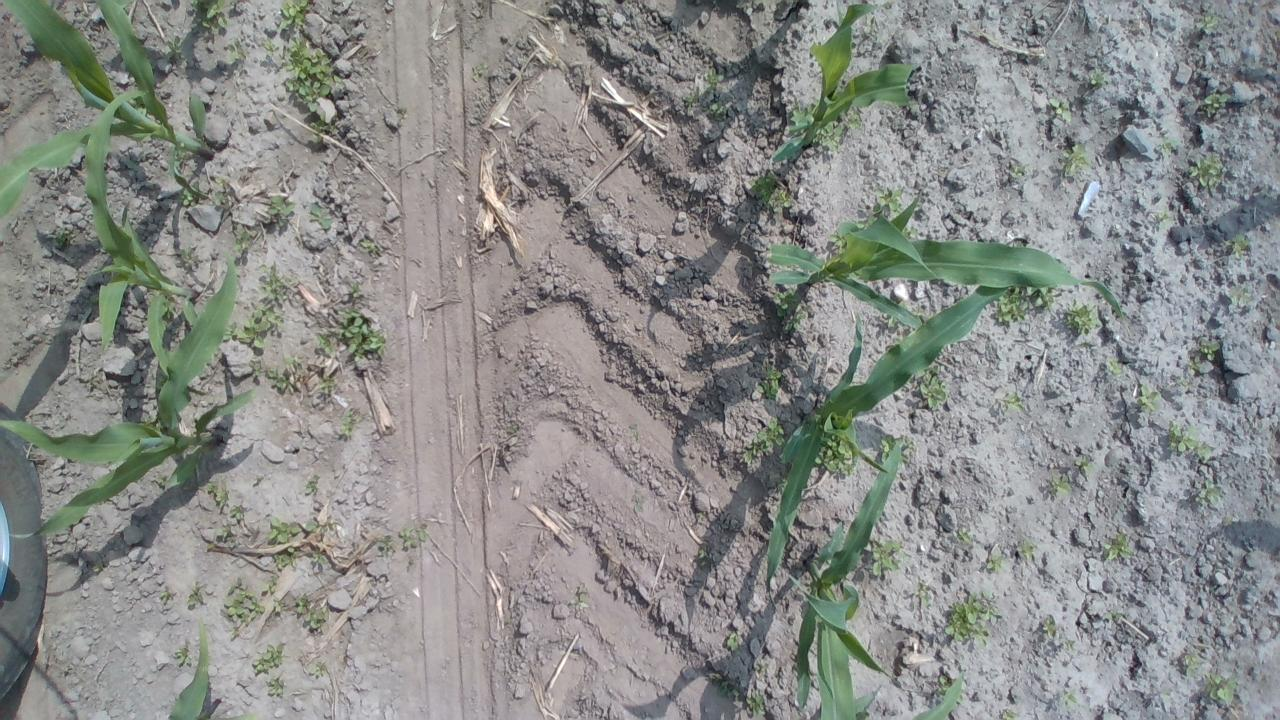Maize: (765, 286, 1006, 602), (0, 252, 256, 539), (764, 190, 1128, 333), (0, 0, 218, 215), (782, 438, 902, 720), (85, 88, 199, 382), (770, 3, 916, 162), (168, 622, 256, 720), (810, 670, 966, 720)
Weeds: (281, 36, 346, 111), (316, 306, 386, 363), (944, 591, 1004, 647), (222, 303, 288, 350), (222, 582, 264, 636), (741, 416, 784, 464), (996, 286, 1053, 322), (1168, 420, 1212, 461), (865, 533, 904, 576), (814, 434, 854, 475), (190, 0, 236, 34), (916, 363, 948, 411), (772, 288, 806, 333), (751, 170, 791, 208), (256, 264, 298, 300), (267, 355, 305, 394), (1065, 301, 1103, 334), (1190, 154, 1224, 190), (1203, 670, 1238, 704), (295, 596, 329, 629), (275, 0, 308, 34), (880, 432, 915, 464), (812, 121, 844, 154), (1062, 142, 1091, 176), (1190, 478, 1224, 506), (253, 642, 284, 672), (872, 185, 903, 214), (268, 516, 300, 544), (270, 195, 297, 228), (756, 368, 782, 402), (1102, 533, 1132, 562), (310, 112, 337, 144), (790, 103, 816, 136), (224, 34, 250, 66), (1136, 384, 1162, 413), (1204, 92, 1231, 118), (712, 674, 740, 699), (208, 478, 230, 507), (308, 205, 333, 230), (399, 526, 428, 546), (702, 68, 724, 94), (1050, 97, 1072, 122), (768, 470, 789, 496), (274, 546, 298, 568), (164, 34, 184, 60), (230, 226, 250, 252), (911, 580, 930, 606), (1226, 234, 1248, 256), (54, 228, 78, 248), (339, 408, 354, 439), (1086, 67, 1108, 88), (1004, 391, 1026, 412), (212, 177, 228, 205), (376, 534, 393, 560), (746, 694, 766, 716), (303, 472, 321, 496), (1050, 477, 1072, 496), (1017, 538, 1036, 560), (1041, 616, 1058, 640), (829, 231, 846, 255), (984, 552, 1004, 572), (186, 588, 204, 610), (318, 374, 337, 394), (1228, 287, 1250, 304), (708, 102, 727, 121), (854, 216, 878, 231), (1007, 164, 1031, 179), (936, 674, 954, 693), (176, 646, 193, 666), (1076, 455, 1096, 472), (302, 520, 326, 534), (177, 188, 195, 206), (471, 64, 489, 82), (1200, 342, 1220, 358), (1183, 654, 1200, 672), (267, 678, 284, 696), (263, 39, 280, 57), (1158, 138, 1177, 154), (846, 110, 861, 130), (261, 576, 278, 593), (308, 662, 326, 678), (176, 248, 194, 264), (958, 528, 976, 544), (570, 592, 586, 609), (1106, 357, 1122, 374), (359, 238, 377, 253), (726, 633, 740, 651), (681, 92, 695, 110), (349, 282, 364, 298), (902, 226, 919, 240), (155, 467, 167, 486), (1062, 692, 1076, 708), (808, 40, 822, 56), (1189, 357, 1202, 374), (1201, 15, 1218, 28), (215, 527, 232, 540), (698, 546, 708, 568), (250, 358, 262, 375), (230, 504, 242, 520), (312, 551, 326, 564), (1177, 378, 1192, 390), (1154, 210, 1170, 221), (272, 599, 286, 611), (1000, 710, 1016, 720), (1107, 608, 1120, 620), (92, 561, 104, 573), (838, 7, 846, 24), (751, 0, 769, 7), (160, 590, 170, 601), (1223, 516, 1234, 526), (1064, 640, 1072, 652), (954, 696, 962, 706), (696, 512, 705, 520)
